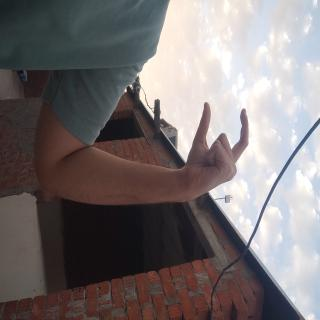DELL: (75, 93, 157, 194)
